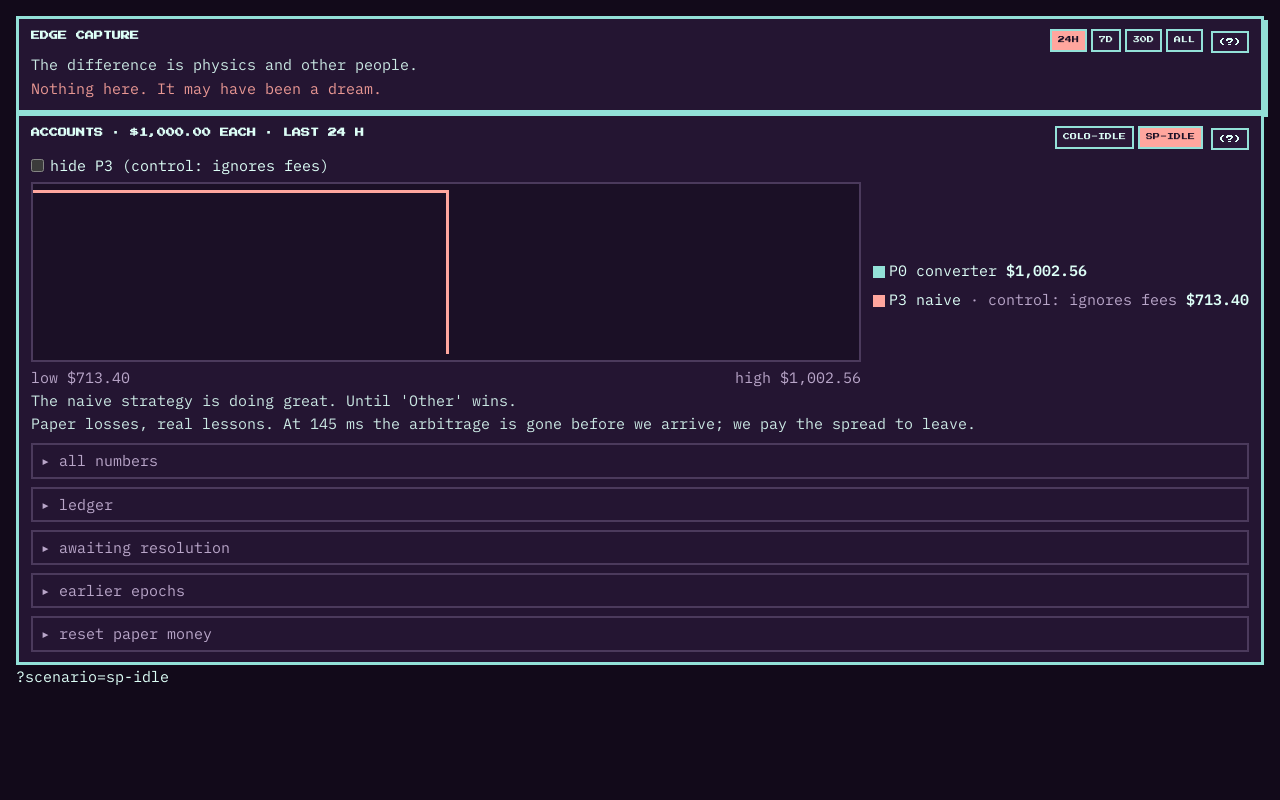
Scenario: Paper › can hide the P3 control line so its drawdown does not flatten the others
Expected: the text "low $713.40" is shown, [31,366,130,389]
Expected: the text "P3 naive" is shown, [889,290,961,309]
What coordinates should you click on to do the following:
click the checkbox labelled "hide P3 (control: ignores fees)"
I would click on:
 (38, 166)
Its box is [31,159,44,172].
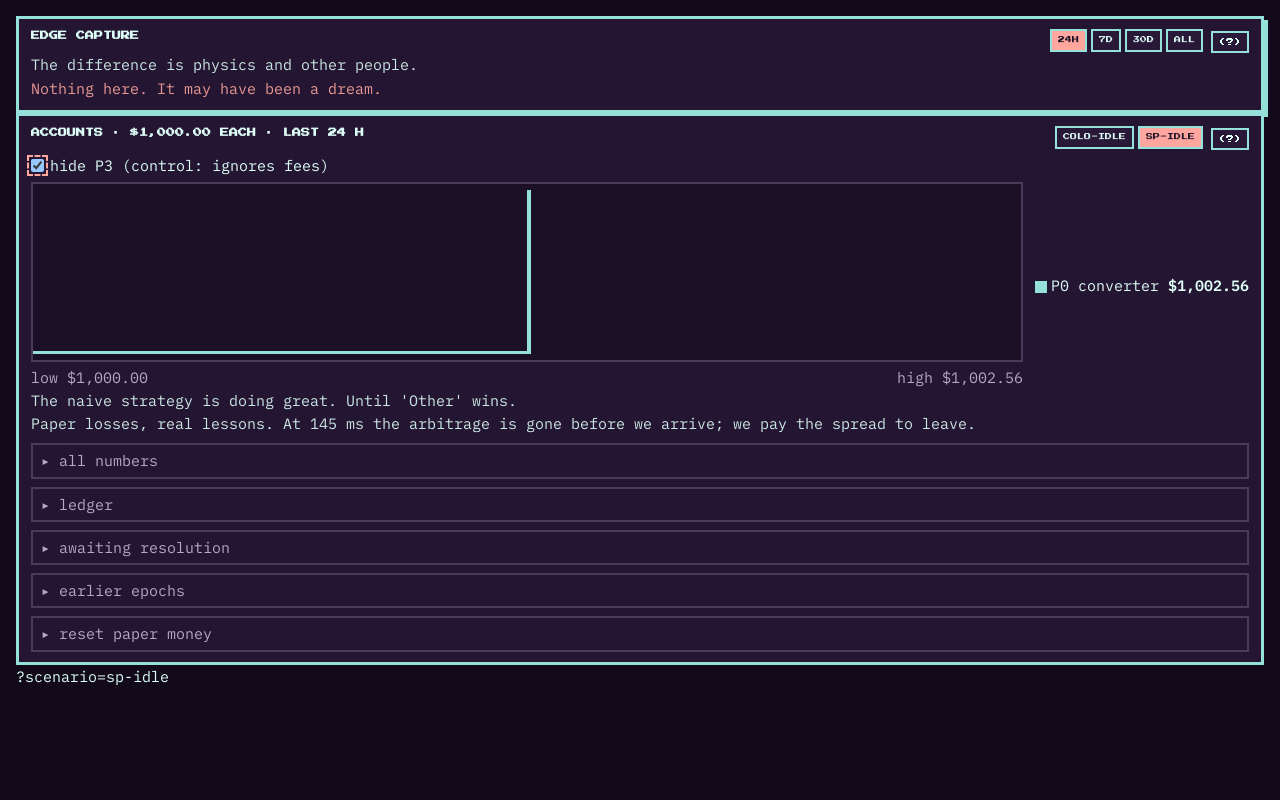
Expected: the text "low $1,000.00" is shown, [31,366,148,389]
Expected: the text "P3 naive" is gone
